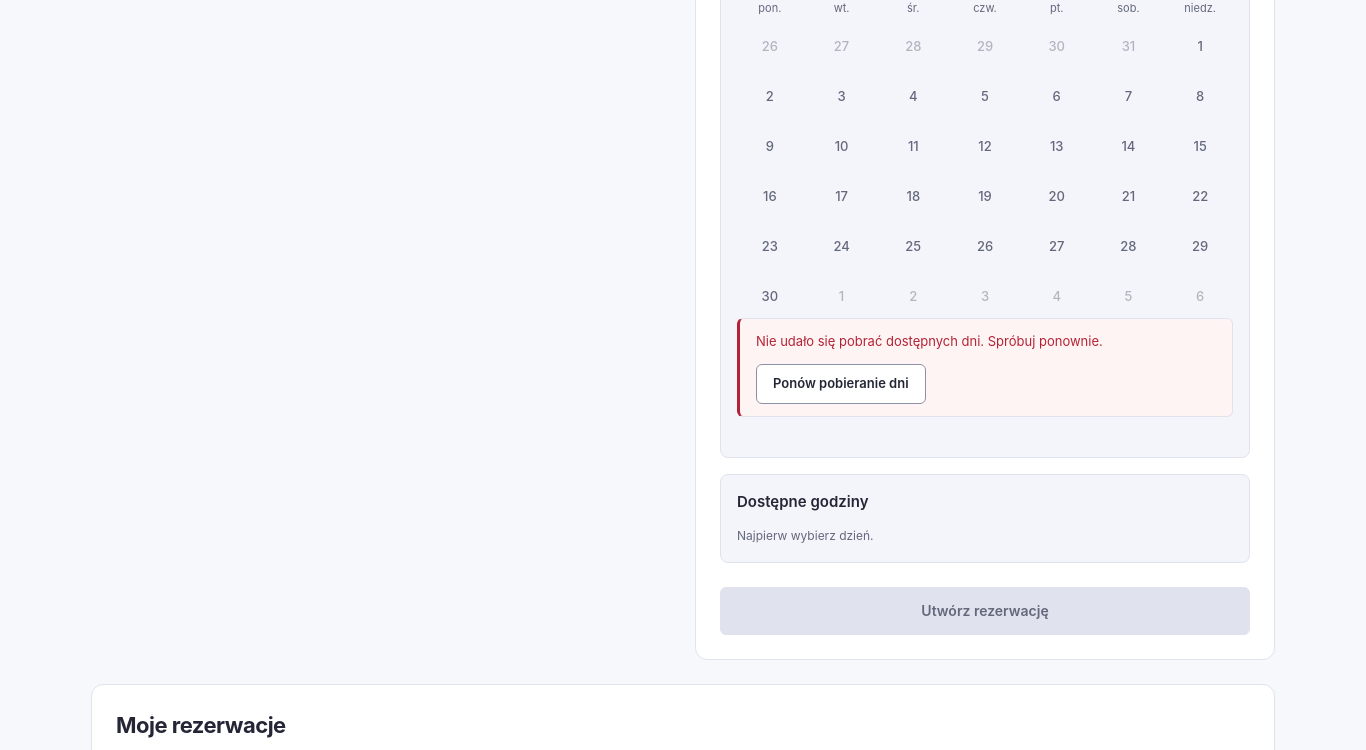
availability recovery › reports a complete availability outage and restores selectable dates on retry
(page scrolled)
Check: the text "Nie udało się pobrać dostępnych dni. Spróbuj ponownie." is shown, box [756,333,1103,349]
Click the button "Ponów pobieranie dni" at coordinates (841, 384), box [756,364,926,404]
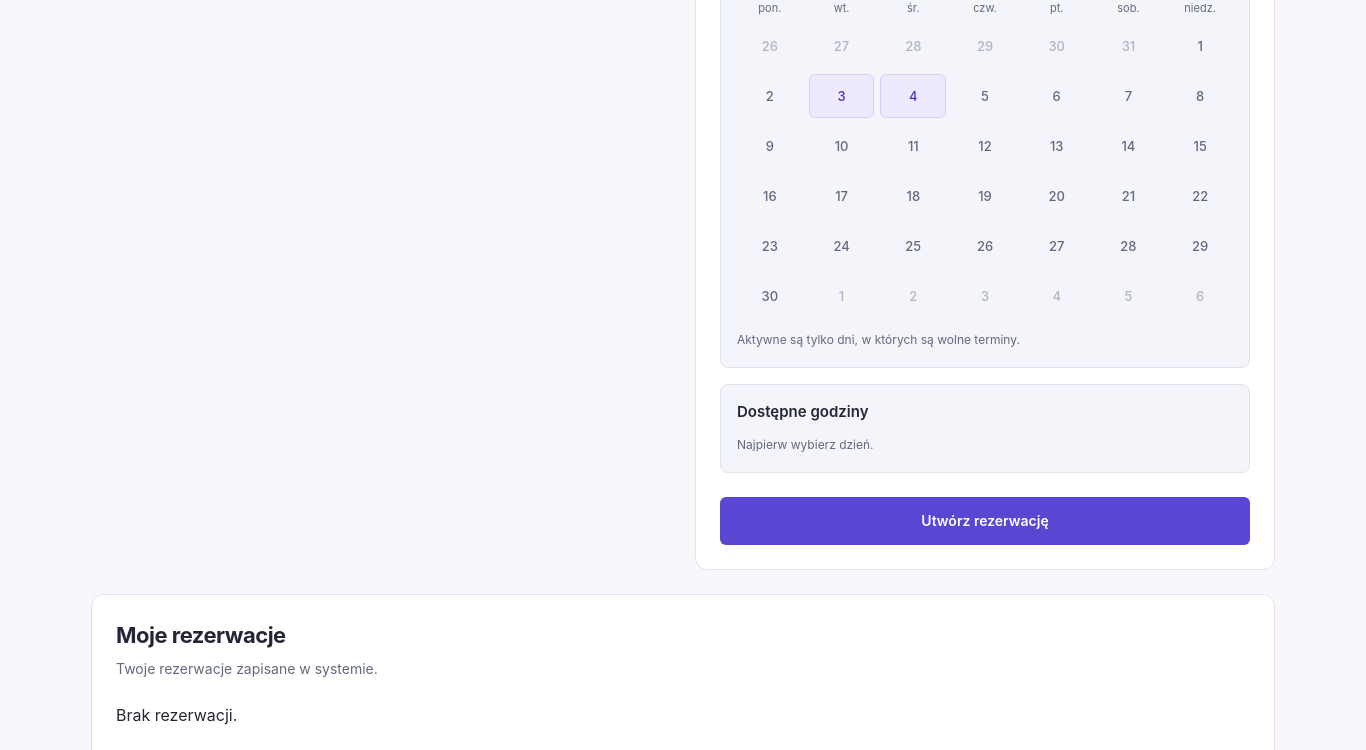
Click the 1st button "3" at coordinates (842, 96), box [809,74,874,118]
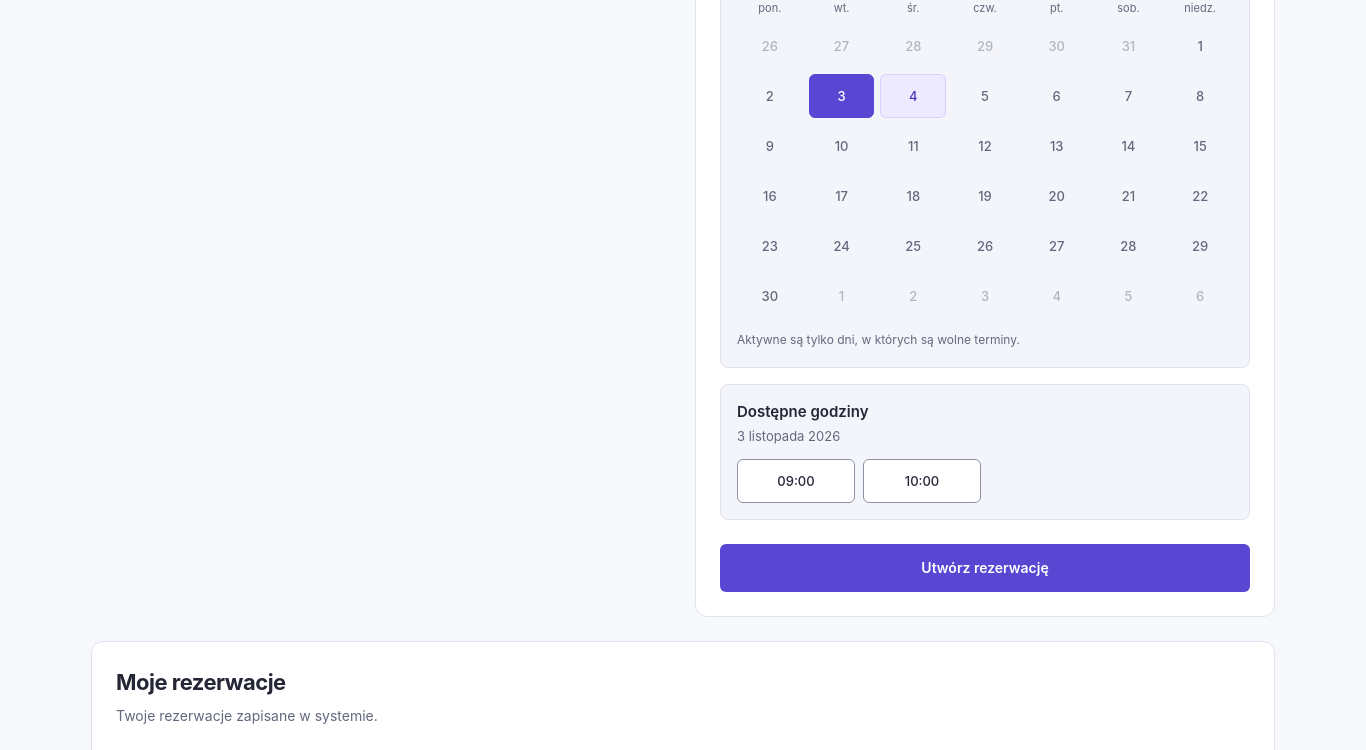
Check: the message "Nie udało się pobrać dostępnych dni. Spróbuj ponownie. Ponów pobieranie dni" is not shown
Check: the button "09:00" is shown, box [737,459,855,503]
